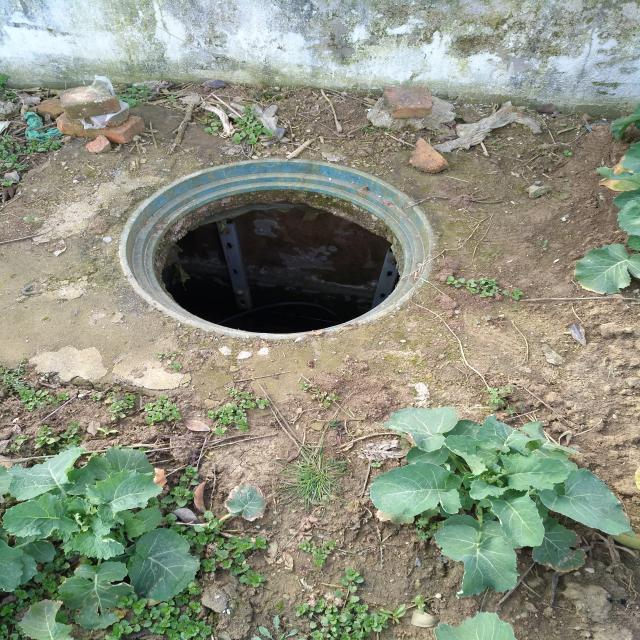Faulty: (120, 158, 436, 338)
